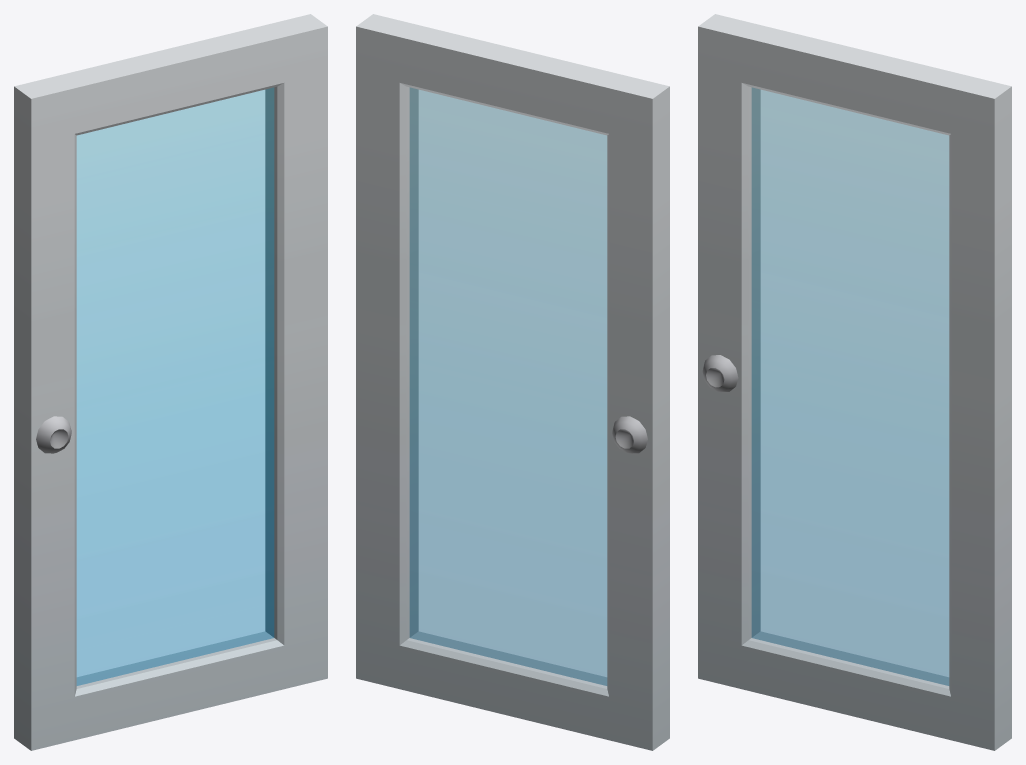
Rendered from Door_White_05.glb.
3 views of the same model, side by side, from view 1: azimuth 30°, elevation 25°; view 2: azimuth 150°, elevation 25°; view 3: azimuth 330°, elevation 25° (orthographic).
Visible parts, largest first — view 1: Door_White_05; view 2: Door_White_05; view 3: Door_White_05.
Boxes of the visible parts, bbox=[...] form: Door_White_05: bbox=[14, 14, 327, 750]; Door_White_05: bbox=[356, 14, 669, 750]; Door_White_05: bbox=[698, 14, 1011, 750].
Bounding box in the file's own units: 1 × 2.1 × 0.1634.
2 materials, 2 textured.
